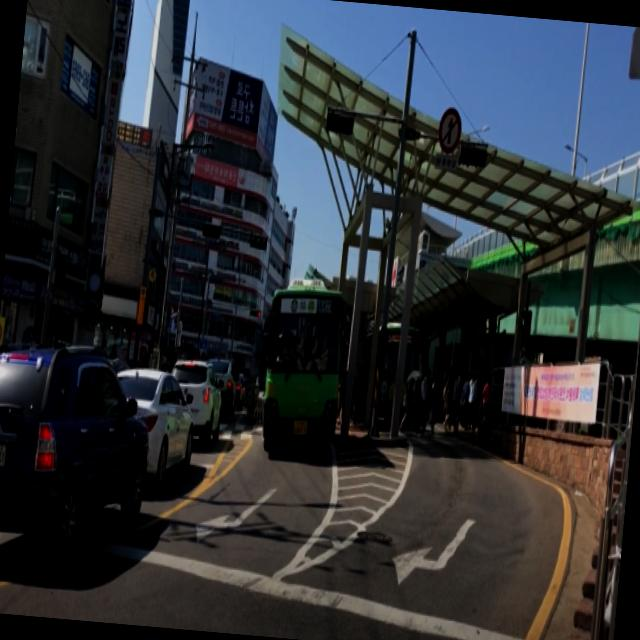bus-number: (316, 297, 334, 315)
